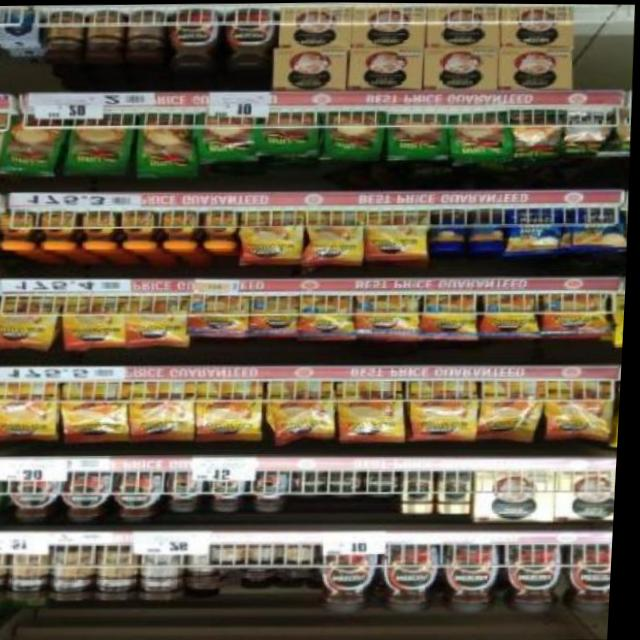Coffee: (323, 541, 387, 612), (386, 542, 449, 613), (508, 542, 570, 611), (448, 543, 509, 612), (413, 381, 482, 440), (549, 381, 617, 440), (199, 381, 265, 441), (481, 382, 548, 441), (274, 378, 337, 440), (343, 380, 407, 440), (66, 382, 130, 442), (137, 381, 199, 440), (0, 383, 62, 442), (164, 9, 224, 67), (222, 7, 280, 67), (567, 543, 618, 611), (11, 466, 69, 525), (242, 212, 304, 265), (128, 296, 191, 346), (305, 212, 362, 267), (69, 297, 128, 347), (356, 293, 422, 337), (0, 298, 59, 346), (369, 213, 427, 260), (68, 471, 119, 524), (118, 472, 170, 523), (547, 292, 610, 333), (301, 294, 357, 338), (424, 292, 480, 335), (483, 293, 538, 335), (189, 296, 249, 333), (249, 296, 300, 335), (405, 469, 444, 513), (212, 471, 254, 511), (169, 473, 212, 512), (256, 471, 296, 512), (441, 473, 479, 512), (0, 213, 39, 250), (122, 213, 160, 249), (41, 213, 79, 249), (83, 212, 119, 249), (166, 212, 200, 249), (203, 213, 238, 248), (336, 471, 367, 496), (373, 473, 404, 497), (299, 473, 330, 496)
